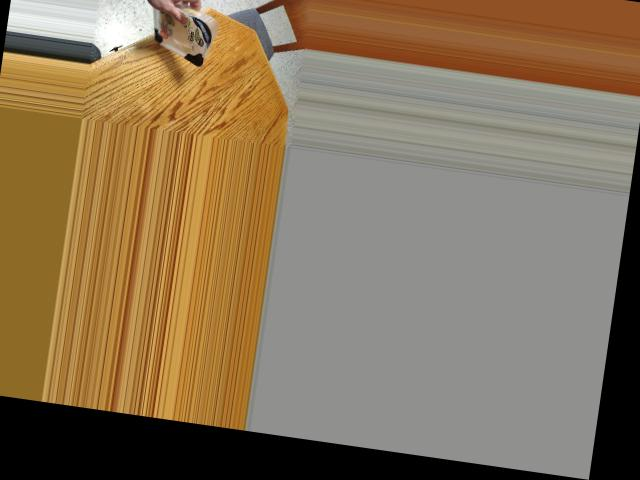cheese: (139, 3, 216, 63)
